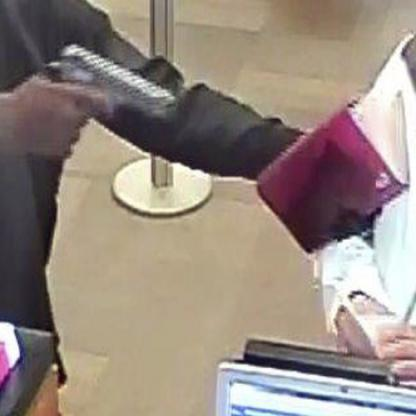gun: (39, 33, 181, 161)
